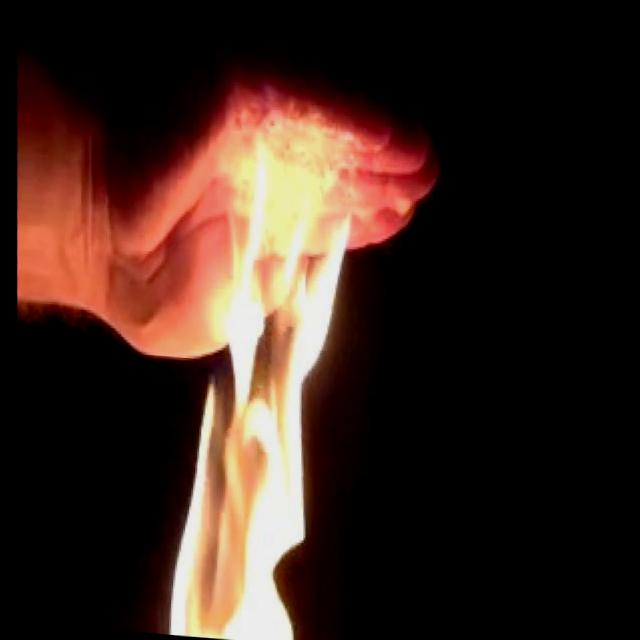helmet: (138, 125, 375, 640)
